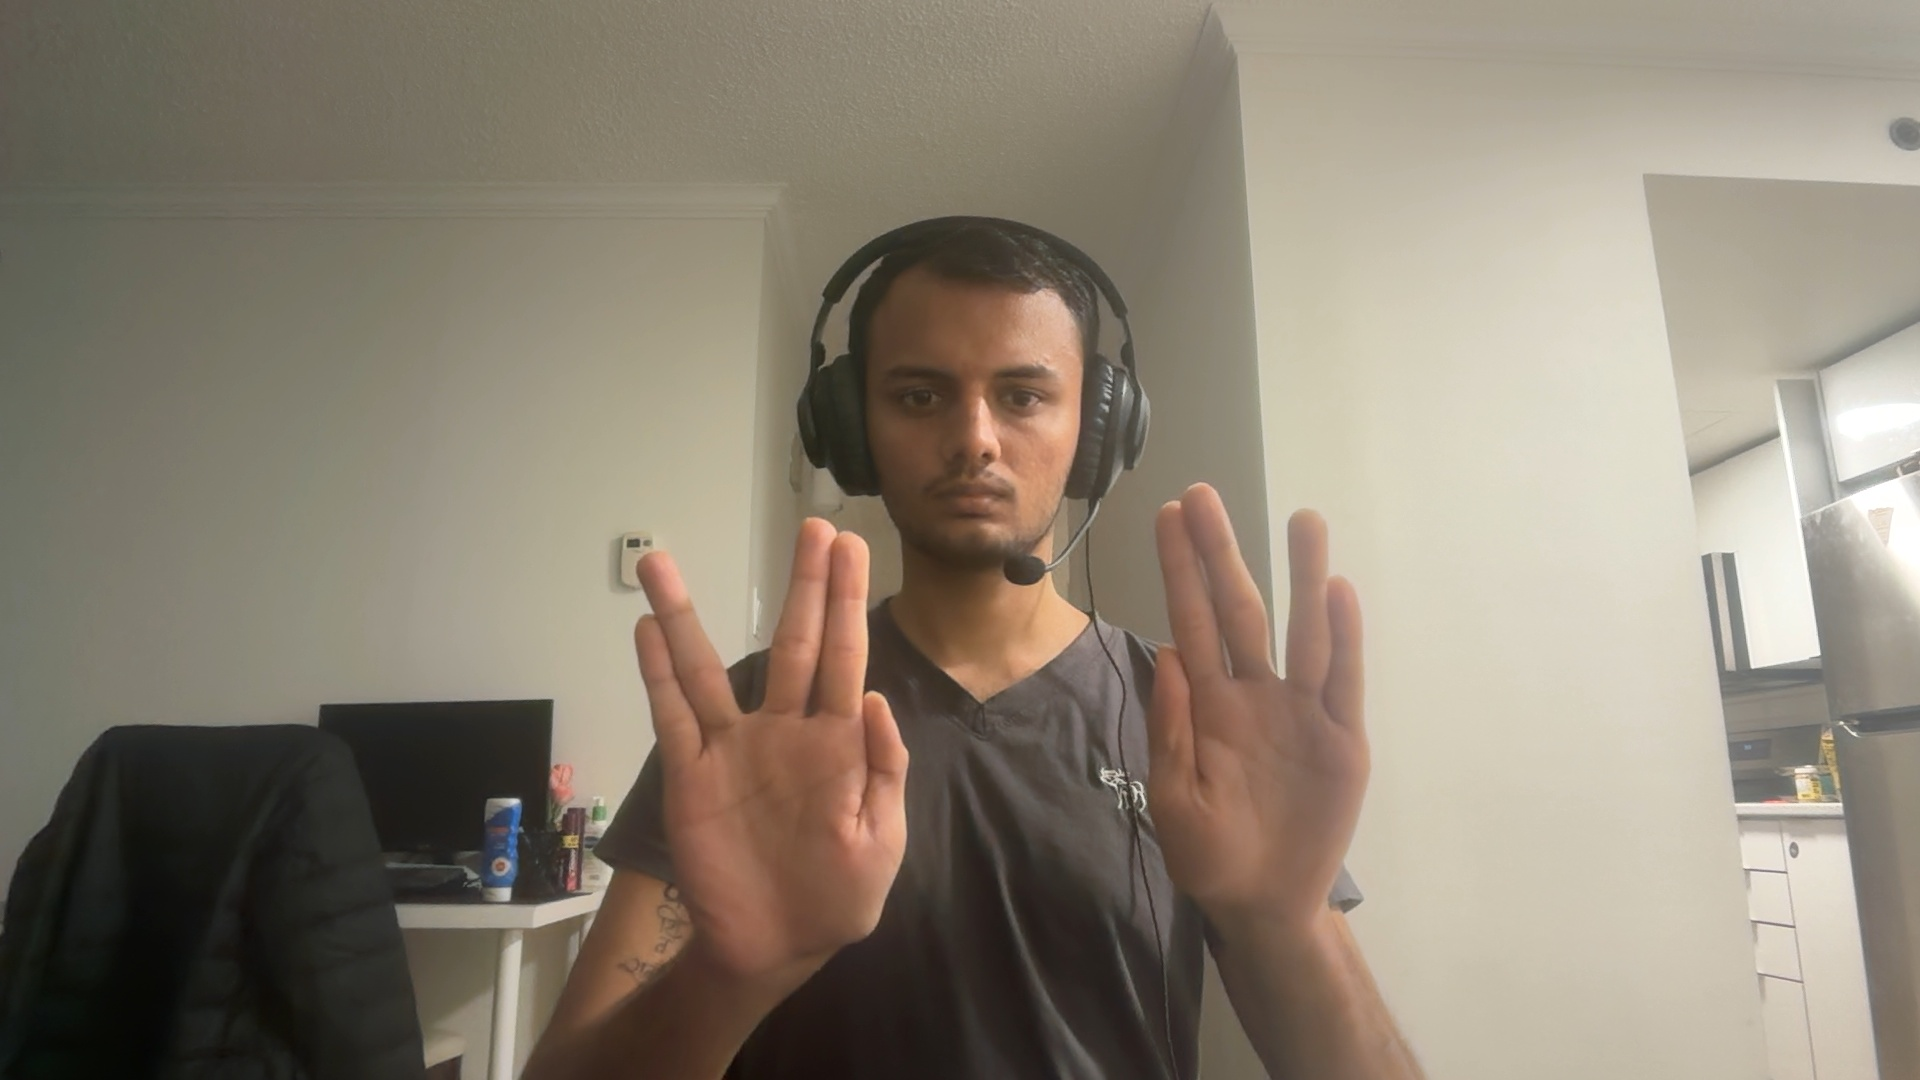livelong: (1147, 479, 1371, 901)
